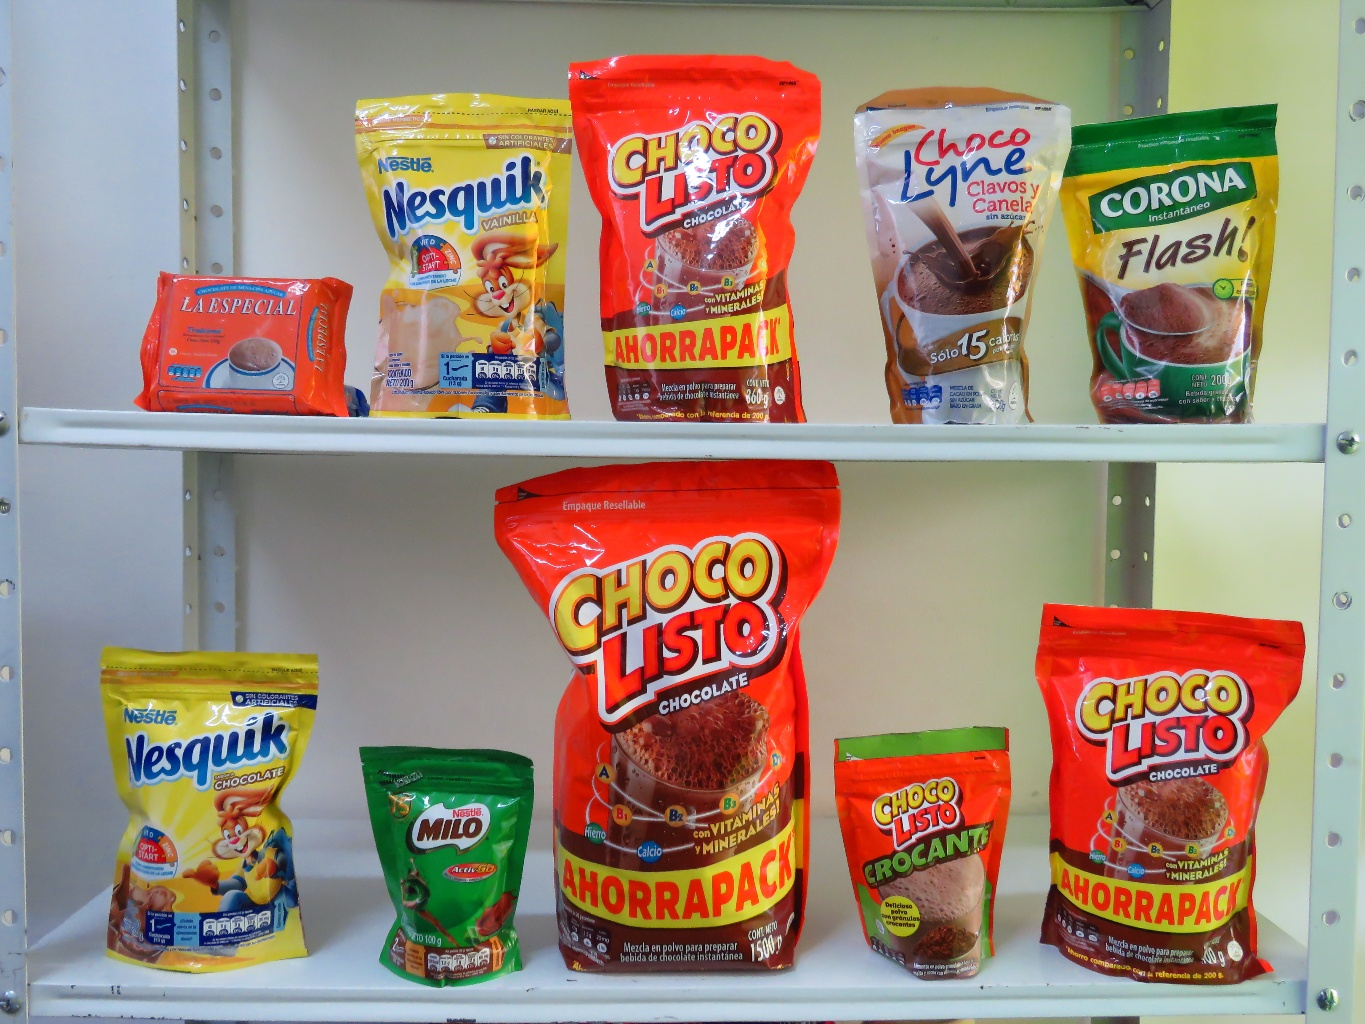COL0170102DYP10000: (825, 719, 1029, 980)
COL0170103DYP1,500: (490, 442, 833, 989)
COL0170103DYP36000: (563, 34, 847, 426)
COL0170103DYP40000: (1033, 596, 1311, 992)
COL0170203DYP10000: (341, 729, 537, 1007)
COL0170303DYP20000: (97, 630, 324, 972)
COL0170306DYP20000: (355, 88, 601, 422)
